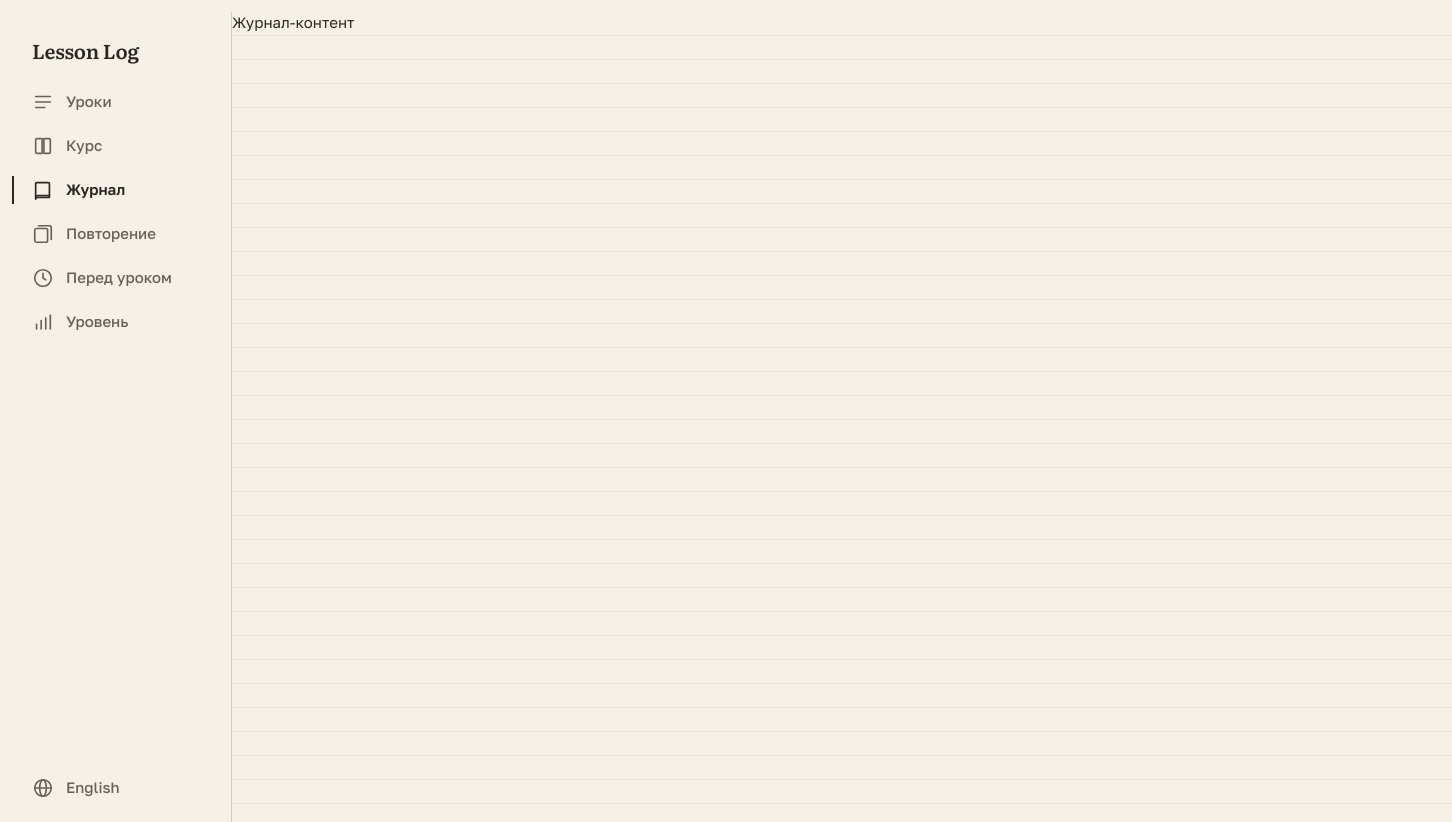
Shell › renders the side nav with logo, labels and the language switch from 1024
Expected: the text "Lesson Log" is shown, [32,35,139,65]
Expected: the link "Уроки" is shown, [32,91,112,113]
Click the button "English": (122, 788) [12,766,231,810]
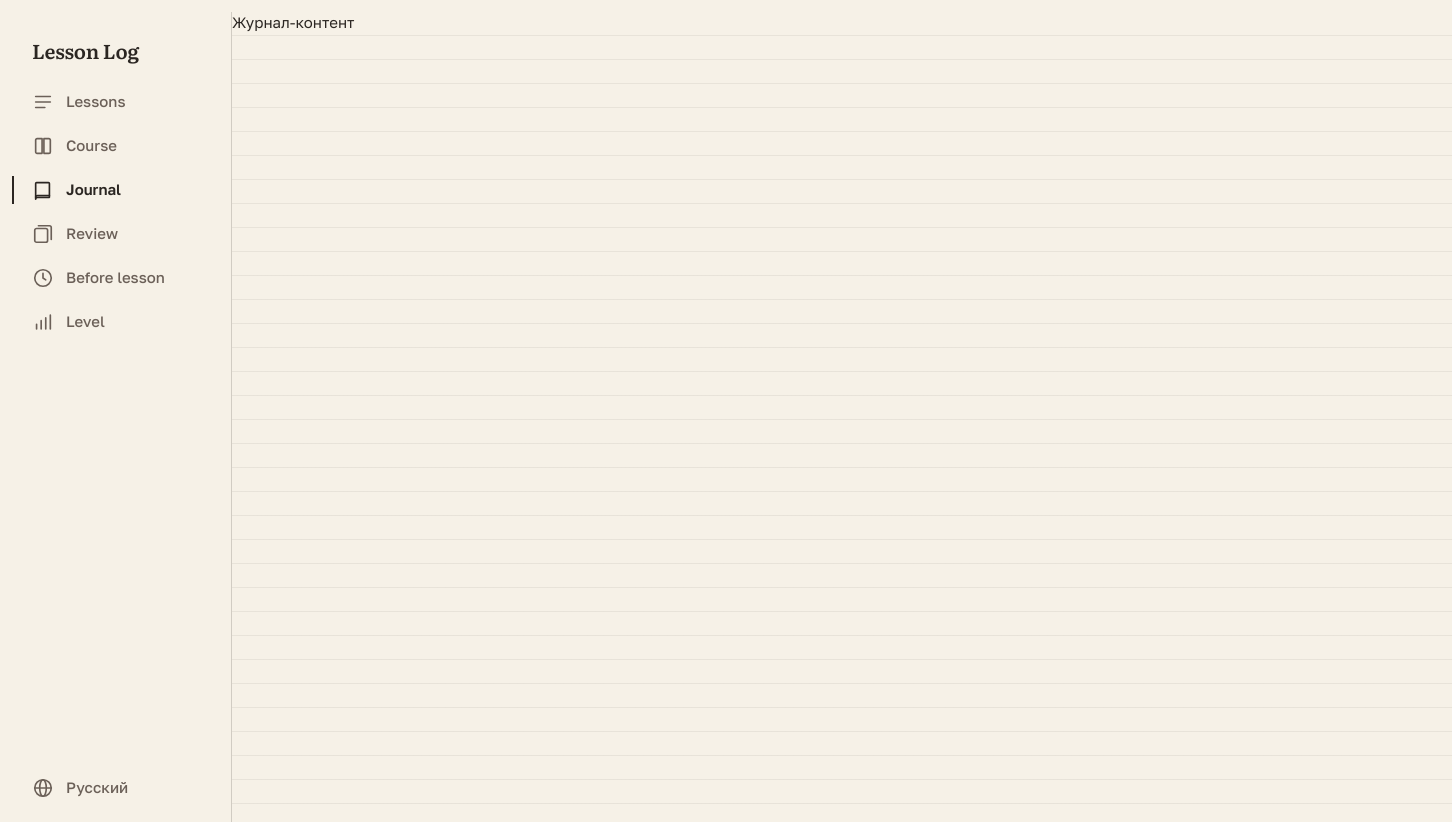
Expected: the link "Journal" is shown, [32,179,121,201]
Result: the button "Русский" is shown at [12,766,231,810]
